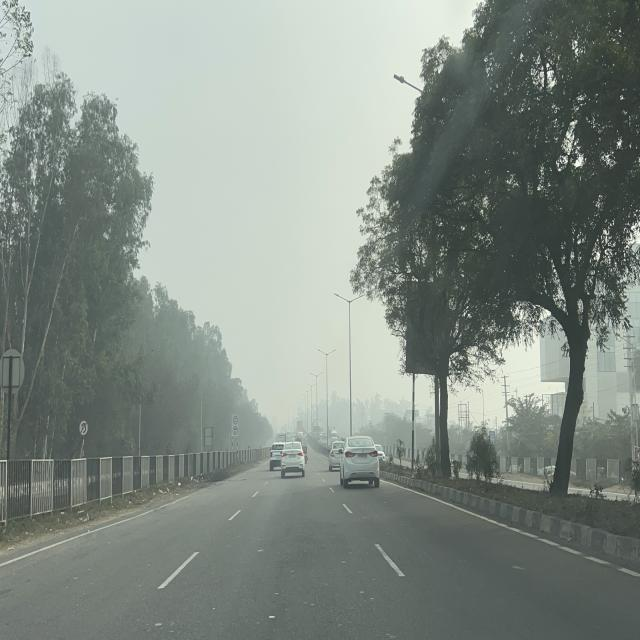OVERTAKING_PROHIBITED: (79, 419, 88, 437)
